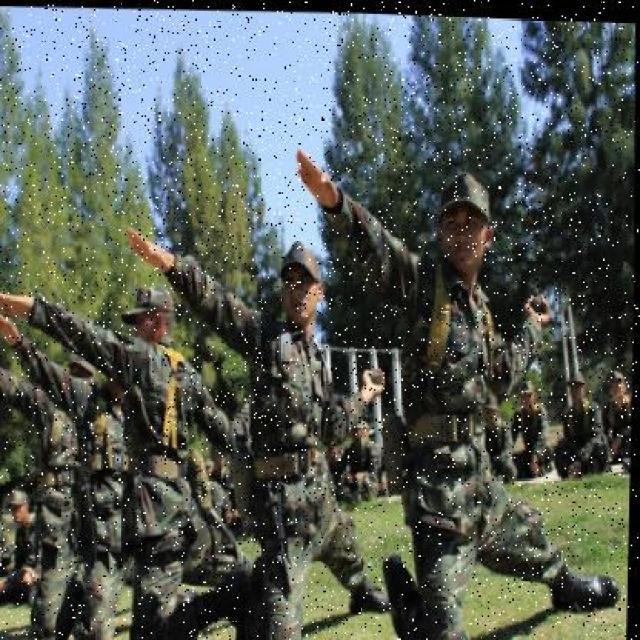MIL_Pax: (361, 129, 568, 640), (228, 243, 344, 640), (92, 278, 218, 640), (20, 329, 106, 640), (558, 377, 602, 477), (4, 494, 42, 608), (512, 390, 554, 468), (601, 348, 630, 454)
